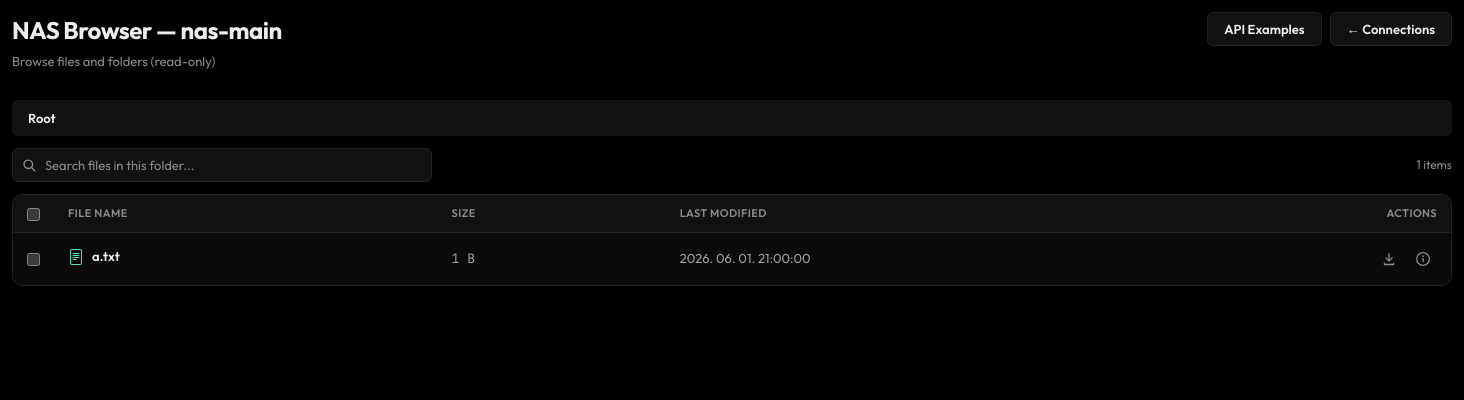
it: NasBrowser page › shows a distinct empty state when a search yields no matches
expect the button "a.txt" is shown: met, box [68,247,120,266]
Type "zzz" into the search field labelled "Search files in this folder..." at x=222, y=165, box [12,148,432,182]
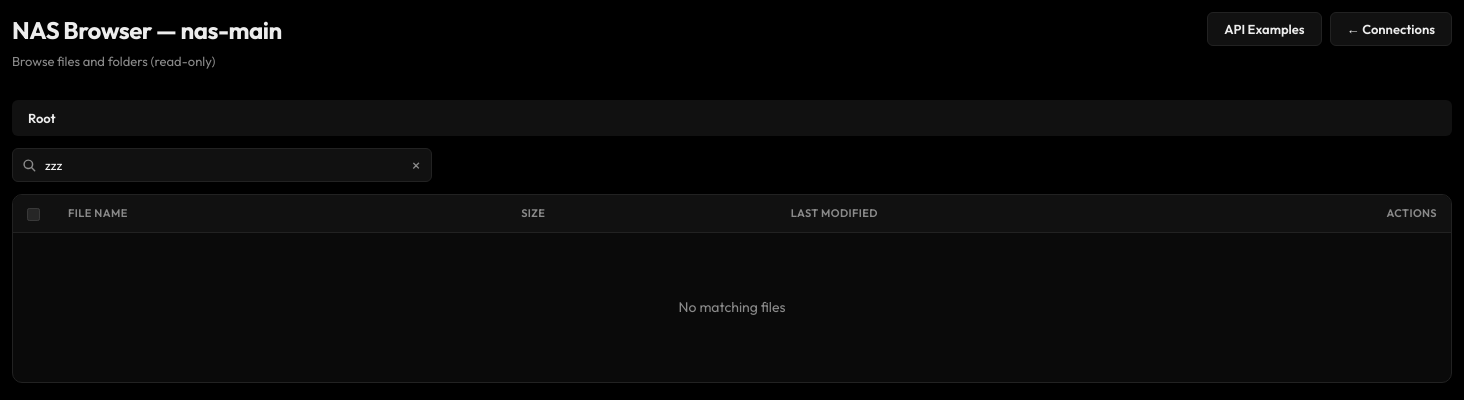
expect the text "No matching files" is shown: met, box [679,298,785,316]
